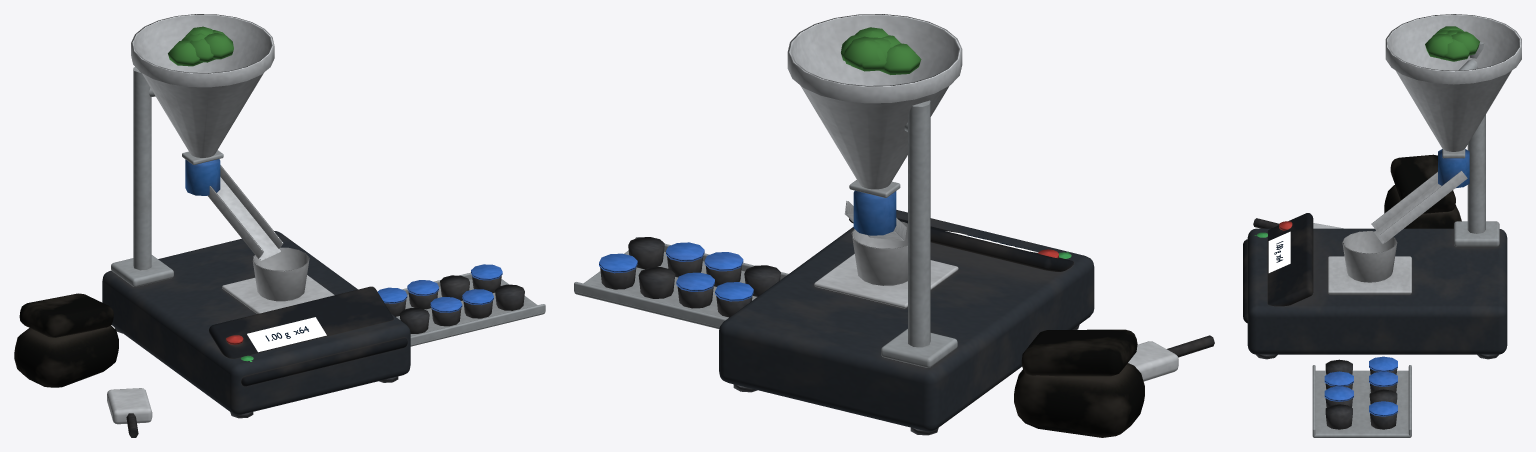
Rendered from waga_dozownik.glb.
The picture shows the model from 3 angles, left to right: view 1: azimuth 30°, elevation 25°; view 2: azimuth 150°, elevation 25°; view 3: azimuth 270°, elevation 25°; orthographic projection. The views are drawn at different scales.
Visible parts, largest first — view 1: Waga, Porcja, Wyswietlacz; view 2: Waga, Porcja; view 3: Waga, Porcja, Wyswietlacz.
Boxes of the visible parts, x1,y1,x2,y2 form: Waga: (14,14,545,437); Porcja: (168,26,233,66); Wyswietlacz: (247,317,326,352); Waga: (574,14,1214,437); Porcja: (841,27,921,74); Waga: (1243,14,1521,437); Porcja: (1425,26,1479,61); Wyswietlacz: (1268,231,1290,272).
Bounding box in the file's own units: 0.6767 × 0.4068 × 0.3651.
Materials: 4 (1 with a texture image).
